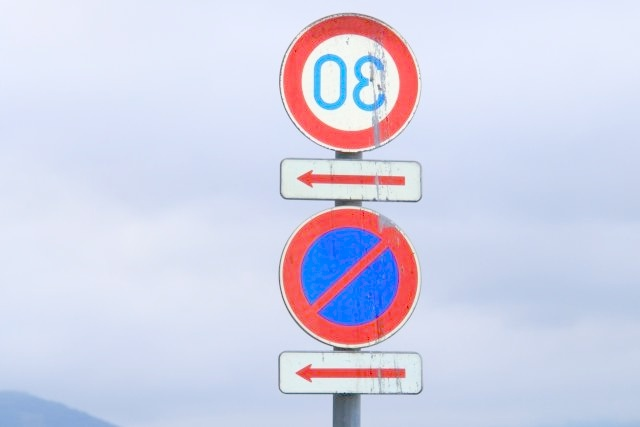Prohibition_sign: (247, 185, 429, 360)
